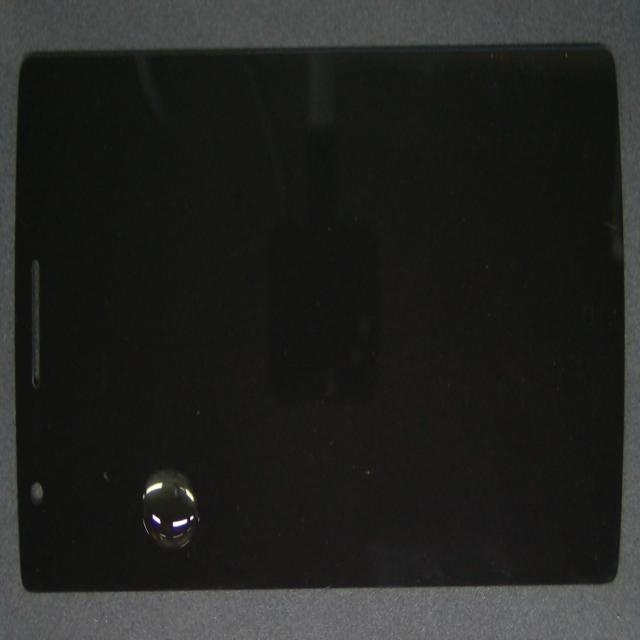oil: (87, 296, 288, 640)
